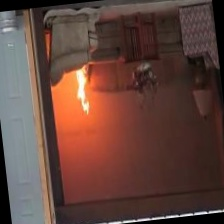fire: (60, 54, 109, 129)
